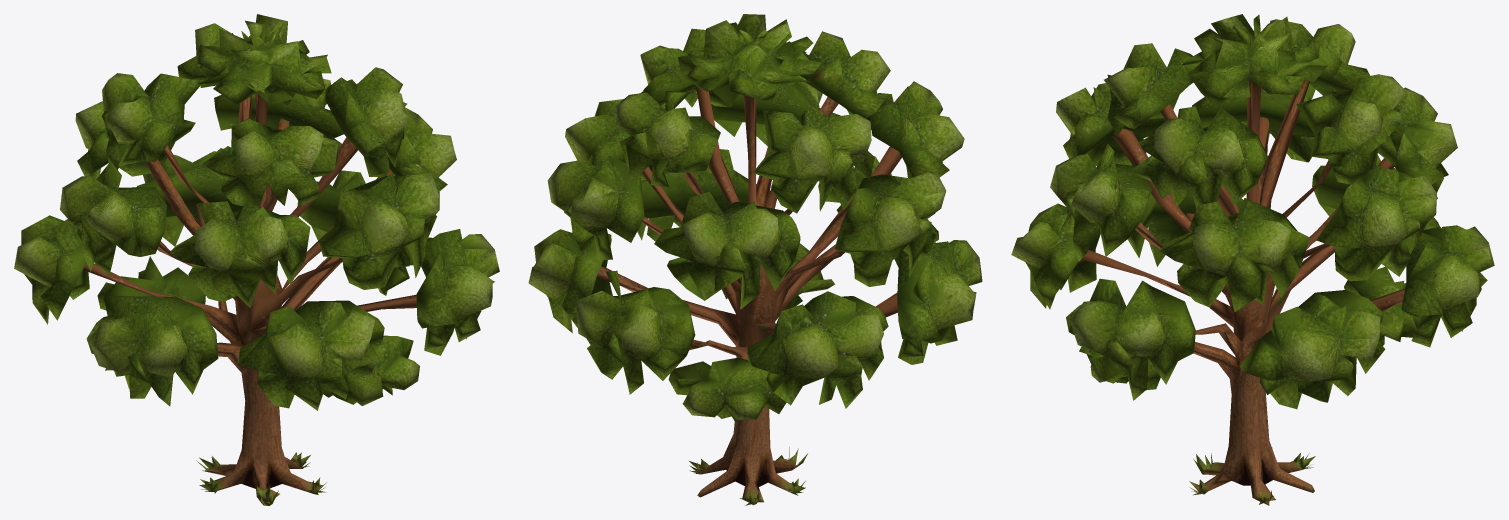
Rendered from tripo_convert_c633071a-9e01-4579-90cd-83bdbba1f3a9.fbx.
3 views of the same model, side by side, from view 1: azimuth 30°, elevation 25°; view 2: azimuth 150°, elevation 25°; view 3: azimuth 270°, elevation 25° (orthographic).
Parts seen in each view (by area): view 1: tripo_node_c633071a; view 2: tripo_node_c633071a; view 3: tripo_node_c633071a.
Part boxes in pixels (x1,y1,x2,y2): tripo_node_c633071a: (14, 14, 499, 505); tripo_node_c633071a: (528, 14, 982, 505); tripo_node_c633071a: (1011, 14, 1494, 505).
Bounding box in the file's own units: 0.8633 × 0.998 × 0.9512.
1 material, 1 textured.
